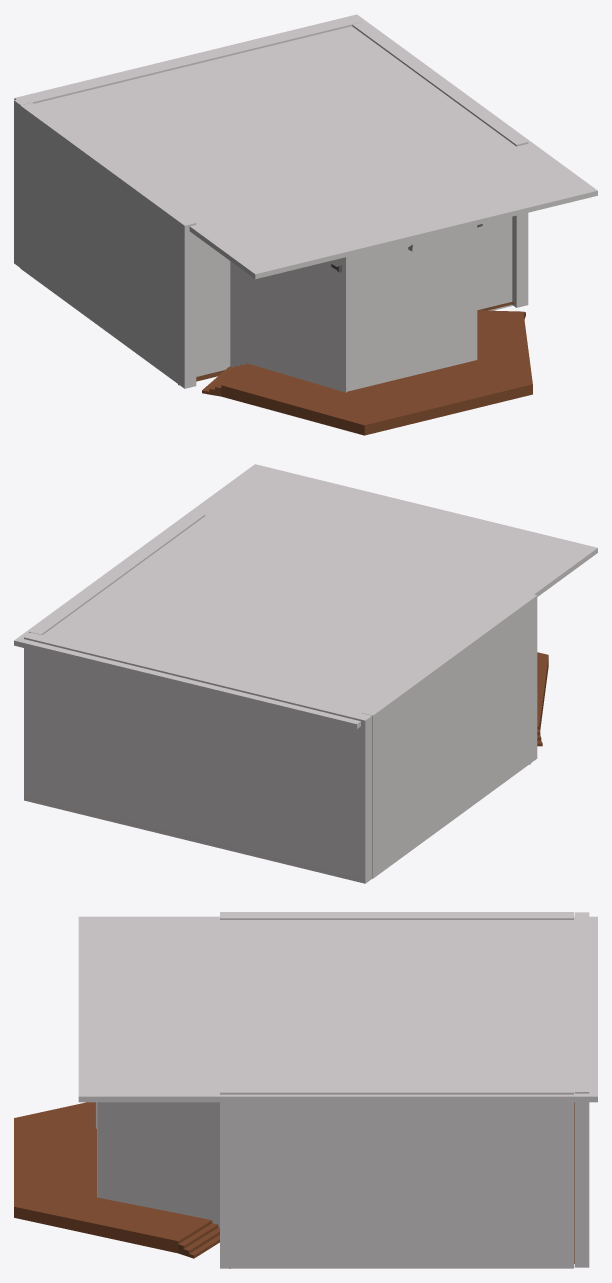
File: Plato.fbx
3 renders of one model, top to bottom at view 1: azimuth 30°, elevation 25°; view 2: azimuth 150°, elevation 25°; view 3: azimuth 270°, elevation 25°, orthographic. The views are drawn at different scales.
Visible parts, largest first — view 1: Ttecho, pared derecha 2, pared centro escenario, escenario, pared derecha escenario, pared derecha1, pared del fondo, pared izquierda 2, Pared izquierda 2; view 2: Ttecho, pared del fondo, pared derecha 2, pared izquierda 2, escenario; view 3: Ttecho, pared izquierda 2, escenario, pared izquiersa escenario, pared del fondo, pared derecha 2.
Boxes of the visible parts, bbox=[...] form: Ttecho: bbox=[14, 14, 597, 279]; pared derecha 2: bbox=[20, 103, 196, 388]; pared centro escenario: bbox=[347, 225, 477, 391]; escenario: bbox=[202, 310, 532, 435]; pared derecha escenario: bbox=[230, 257, 347, 392]; pared derecha1: bbox=[178, 236, 230, 385]; pared del fondo: bbox=[14, 17, 361, 267]; pared izquierda 2: bbox=[352, 22, 528, 307]; Pared izquierda 2: bbox=[477, 216, 512, 310]; Ttecho: bbox=[14, 464, 597, 729]; pared del fondo: bbox=[24, 632, 372, 883]; pared derecha 2: bbox=[361, 592, 537, 878]; pared izquierda 2: bbox=[29, 511, 205, 634]; escenario: bbox=[537, 652, 548, 746]; Ttecho: bbox=[78, 916, 597, 1102]; pared izquierda 2: bbox=[220, 1086, 573, 1268]; escenario: bbox=[14, 1102, 219, 1258]; pared izquiersa escenario: bbox=[97, 1102, 219, 1227]; pared del fondo: bbox=[574, 912, 589, 1267]; pared derecha 2: bbox=[220, 912, 573, 919].
Bounding box in the file's own units: 20.47 × 9.24 × 27.62.
